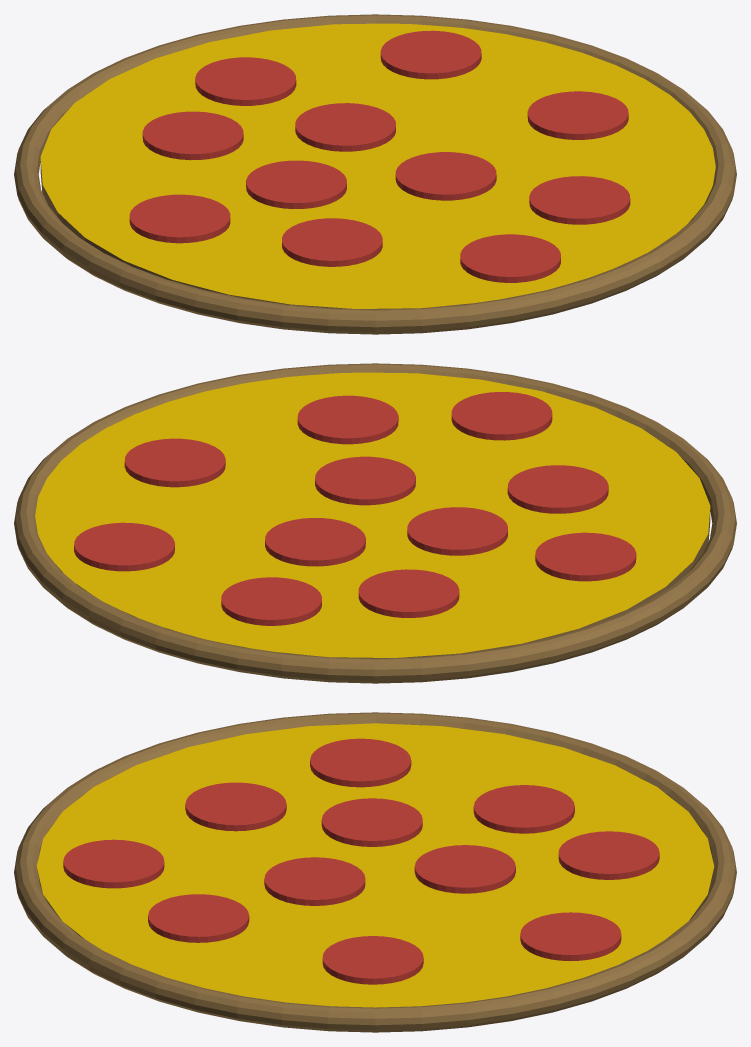
File: Pizza.fbx
3 views of the same model, one above another, from view 1: azimuth 30°, elevation 25°; view 2: azimuth 150°, elevation 25°; view 3: azimuth 270°, elevation 25° (orthographic).
Visible parts, largest first — view 1: Pizza; view 2: Pizza; view 3: Pizza.
Boxes of the visible parts, <box> form: Pizza: <box>14,14,736,334</box>; Pizza: <box>14,363,736,683</box>; Pizza: <box>14,712,736,1032</box>.
Size of the model in its own units: 14.3 by 0.5447 by 14.3.
